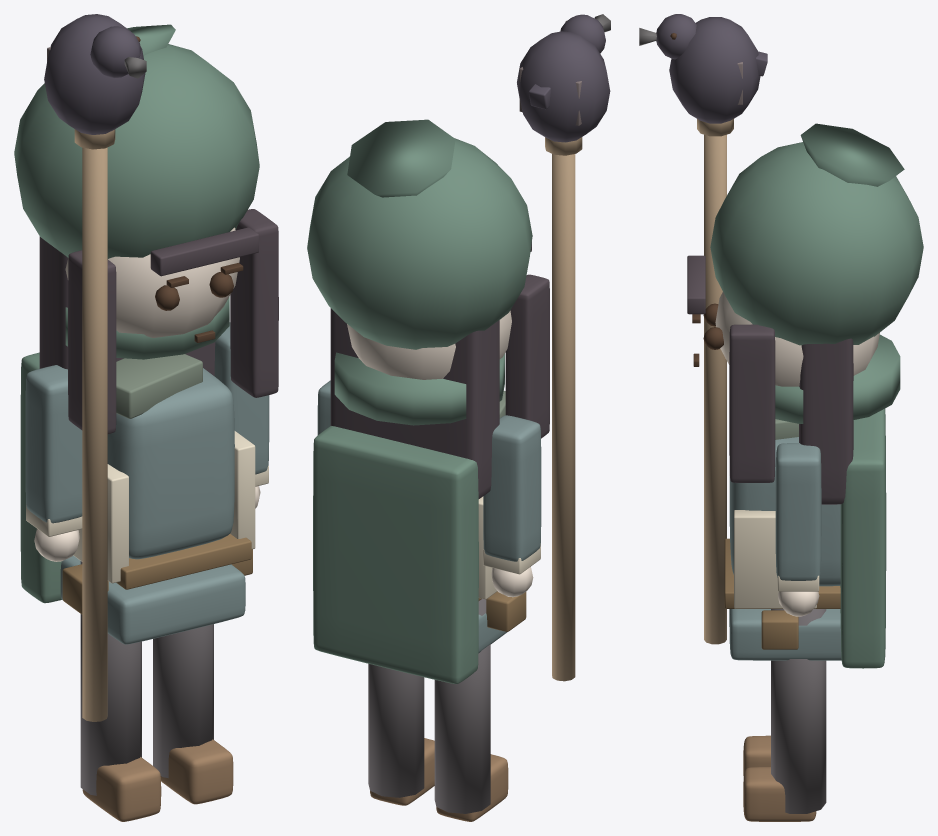
File: npc_mother_onywyn_v1.glb
3 views of the same model, side by side, from view 1: azimuth 30°, elevation 25°; view 2: azimuth 150°, elevation 25°; view 3: azimuth 270°, elevation 25° (orthographic). The views are drawn at different scales.
Parts seen in each view (by area): view 1: Hood_Top, Tunic_Body, Staff_Pole, Tunic_Skirt, Sleeve_L, Hair_Side_R, Crow_Body, Pants_R, Head_Mesh, Pants_L, Hair_Side_L, Sash (+18 smaller); view 2: Cloak_Back, Hood_Top, Staff_Pole, Hair_Back, Pants_L, Crow_Body, Sleeve_L, Pants_R, Hood_Collar, Hood_Point, Hair_Side_L, Head_Mesh (+8 smaller); view 3: Hood_Top, Cloak_Back, Staff_Pole, Pants_R, Hair_Side_R, Crow_Body, Hair_Back, Sleeve_R, Tunic_Panel_R, Hood_Point, Tunic_Skirt, Hood_Collar (+10 smaller).
Part boxes in pixels (x1,y1,x2,y2): Hood_Top: (14,44,259,258); Tunic_Body: (107,368,234,559); Staff_Pole: (82,147,107,721); Tunic_Skirt: (60,555,245,644); Sleeve_L: (25,365,82,523); Hair_Side_R: (230,209,278,397); Crow_Body: (44,14,145,134); Pants_R: (153,624,213,778); Head_Mesh: (65,227,239,337); Pants_L: (80,561,141,795); Hair_Side_L: (68,250,116,434); Sash: (116,354,202,418); Cloak_Back: (313,426,478,684); Hood_Top: (307,138,532,349); Staff_Pole: (552,154,575,681); Hair_Back: (330,308,499,498); Pants_L: (434,599,490,813); Crow_Body: (517,31,610,142); Sleeve_L: (483,415,541,561); Pants_R: (368,663,424,797); Hood_Collar: (334,352,504,425); Hood_Point: (347,119,455,197); Hair_Side_L: (505,274,549,438); Head_Mesh: (347,310,511,379); Hood_Top: (710,142,923,345); Cloak_Back: (840,408,886,668); Staff_Pole: (704,134,726,644); Pants_R: (771,609,826,813); Hair_Side_R: (729,324,775,482); Crow_Body: (669,17,760,123); Hair_Back: (799,338,853,504); Sleeve_R: (775,443,821,580); Tunic_Panel_R: (734,510,816,608); Hood_Point: (800,123,904,186); Tunic_Skirt: (729,609,841,660); Hood_Collar: (775,334,900,423).
Bounding box in the file's own units: 0.5649 × 1.77 × 0.616.
